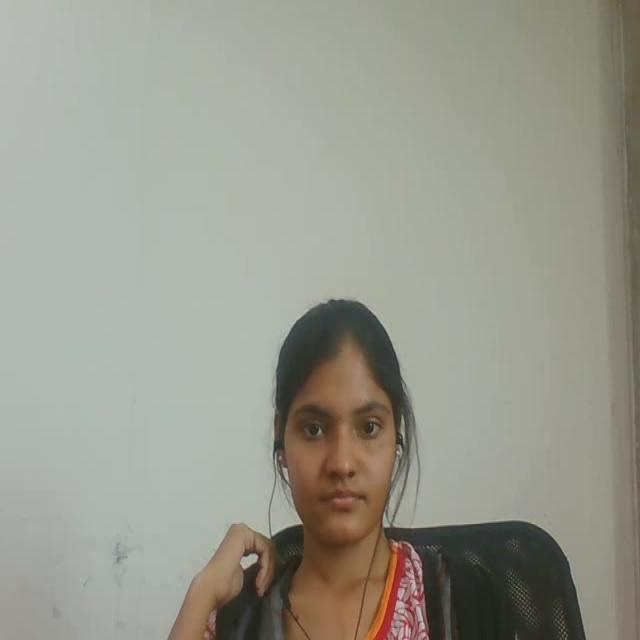Engaged: (256, 284, 432, 580)
